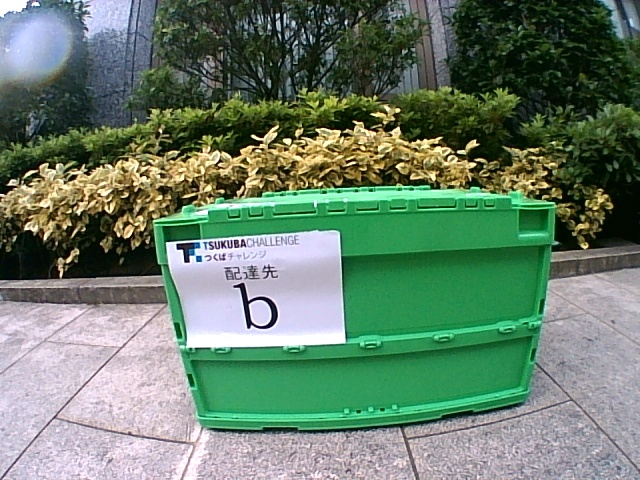blue_box: (152, 186, 556, 432)
tag_a: (186, 242, 340, 343)
